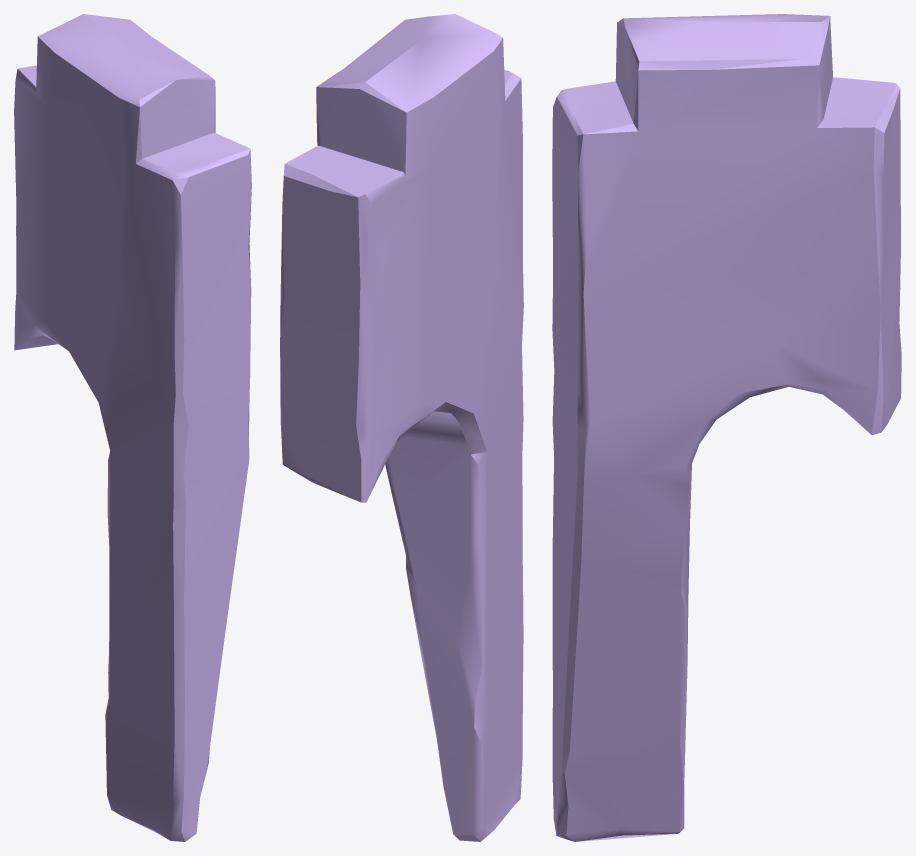
File: krangstein_l_ver1_LOD4.fbx
3 renders of one model, left to right at view 1: azimuth 30°, elevation 25°; view 2: azimuth 150°, elevation 25°; view 3: azimuth 270°, elevation 25°, orthographic. The views are drawn at different scales.
Parts seen in each view (by area): view 1: Cube_064lod2.002; view 2: Cube_064lod2.002; view 3: Cube_064lod2.002.
Part boxes in pixels (x1,y1,x2,y2): Cube_064lod2.002: [14, 14, 251, 841]; Cube_064lod2.002: [280, 14, 523, 841]; Cube_064lod2.002: [552, 14, 901, 841].
Bounding box in the file's own units: 28.55 × 186 × 71.44.
